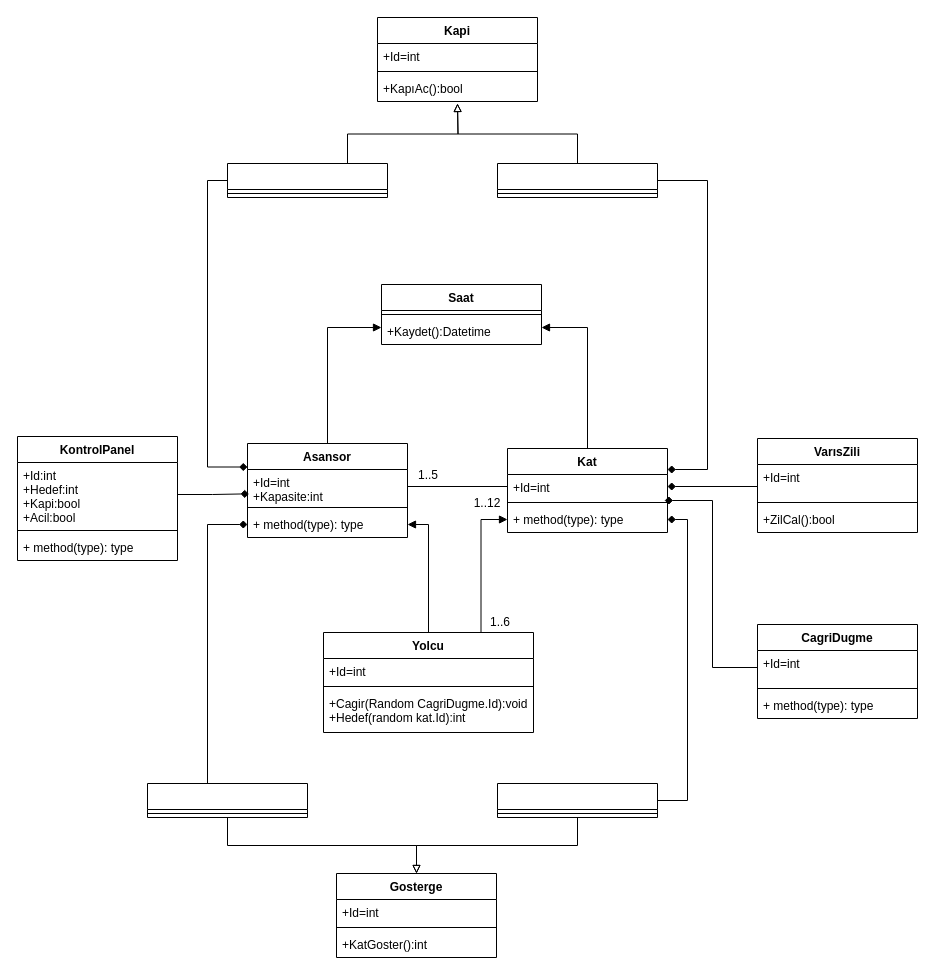
The diagram is 935 pixels wide and 978 high, and some of its shapes have lost their labels. The shapes that lost their labels are listed below. From the top down, each one's centre as x and y in pixels, then its label:
At point 307,180: "AsansorKapi".
At point 577,180: "KatKapi".
At point 227,800: "AsansorGosterge".
At point 577,800: "KatGosterge".
